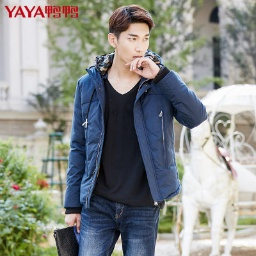face: (105, 4, 156, 68)
